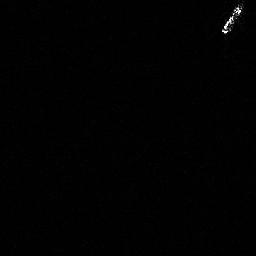ship: (218, 1, 246, 37)
